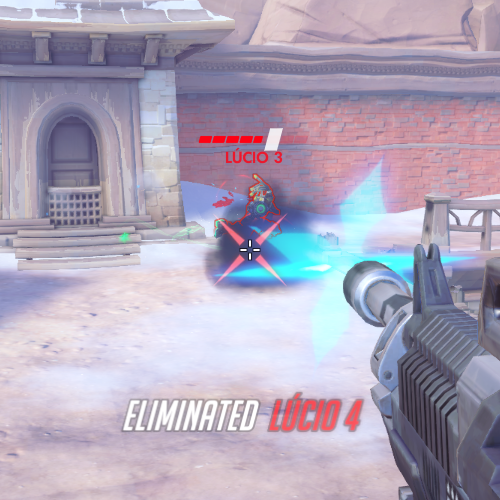hpbar: (198, 135, 309, 145)
